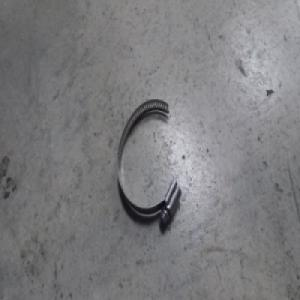AdjustableClamp: (117, 94, 183, 222)
